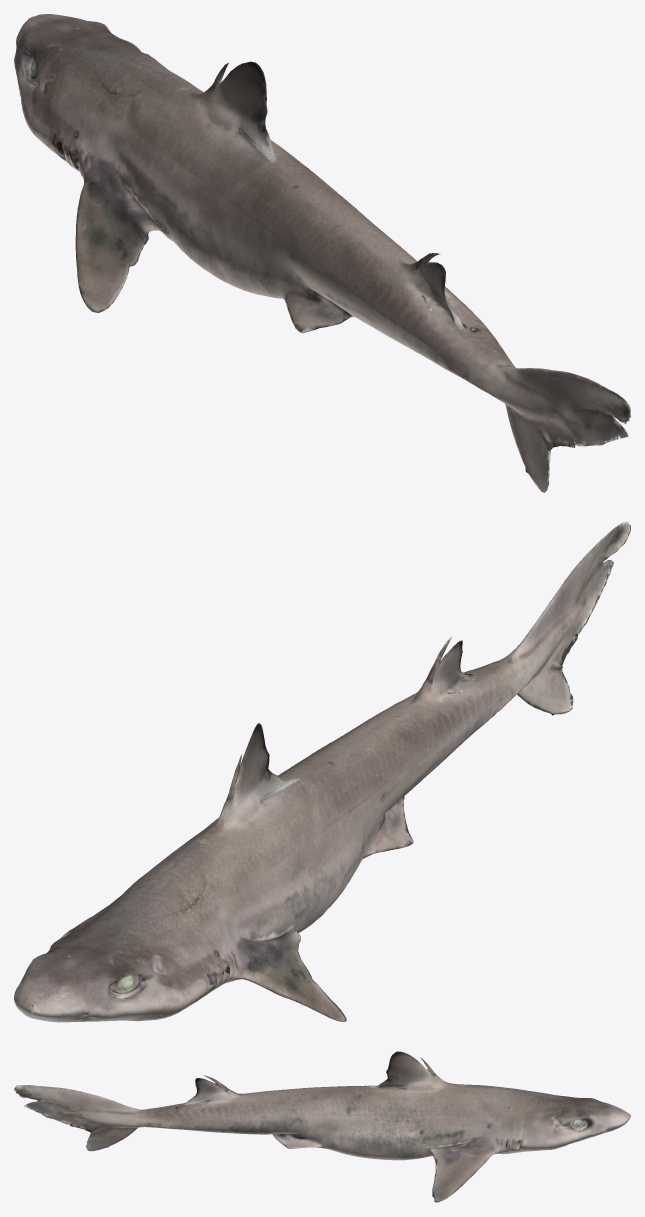
File: spurdog.glb
The picture shows the model from 3 angles, top to bottom: view 1: azimuth 30°, elevation 25°; view 2: azimuth 150°, elevation 25°; view 3: azimuth 270°, elevation 25°; orthographic projection. The views are drawn at different scales.
Visible parts, largest first — view 1: spurdog; view 2: spurdog; view 3: spurdog.
Part boxes in pixels (x1,y1,x2,y2): spurdog: (14,14,630,492); spurdog: (14,521,630,1022); spurdog: (14,1051,630,1202).
Bounding box in the file's own units: 0.2302 × 0.2226 × 0.9995.
Materials: 1 (1 with a texture image).
